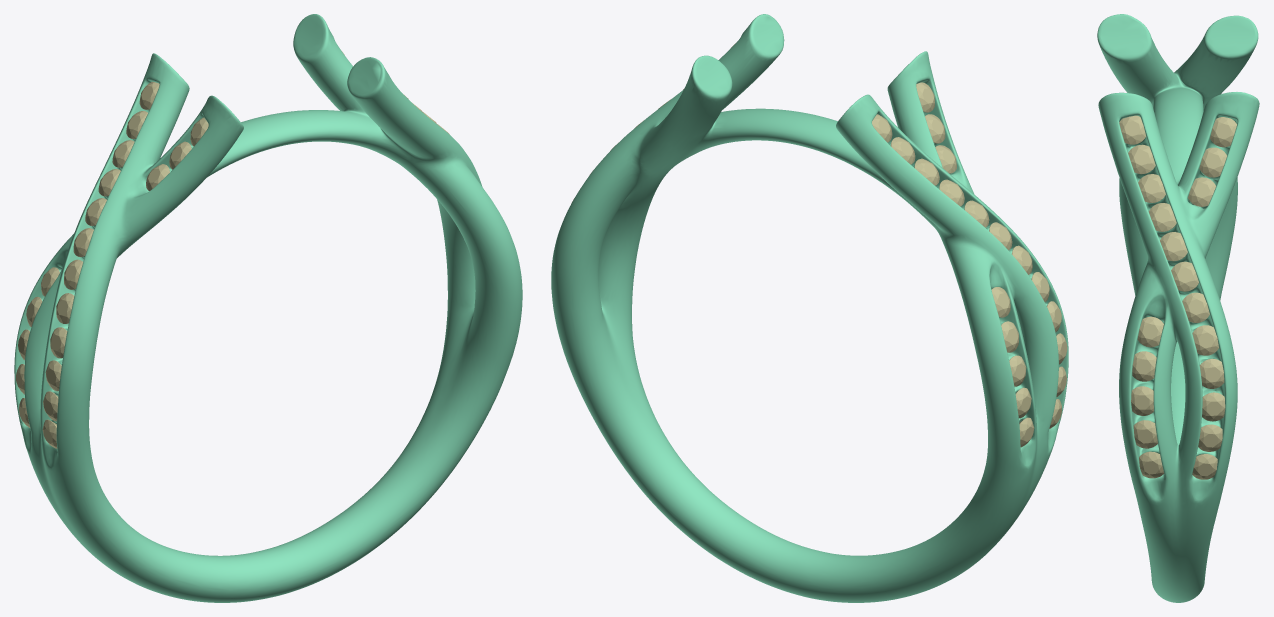
3 renders of one model, left to right at view 1: azimuth 30°, elevation 25°; view 2: azimuth 150°, elevation 25°; view 3: azimuth 270°, elevation 25°, orthographic. The views are drawn at different scales.
Visible parts, largest first — view 1: Metal02; view 2: Metal02; view 3: Metal02, Diamond_Round.009, Diamond_Round.001, Diamond_Round, Diamond_Round.010, Diamond_Round.018, Diamond_Round.008, Diamond_Round.017, Diamond_Round.011, Diamond_Round.019, Diamond_Round.015, Diamond_Round.002 (+9 smaller).
Boxes of the visible parts, left/top/right/bottom form: Metal02: left=14, top=14, right=522, bottom=602; Metal02: left=551, top=14, right=1068, bottom=602; Metal02: left=1097, top=14, right=1259, bottom=602; Diamond_Round.009: left=1192, top=325, right=1218, bottom=355; Diamond_Round.001: left=1132, top=351, right=1156, bottom=381; Diamond_Round: left=1137, top=316, right=1163, bottom=347; Diamond_Round.010: left=1182, top=292, right=1209, bottom=322; Diamond_Round.018: left=1199, top=147, right=1226, bottom=177; Diamond_Round.008: left=1199, top=358, right=1224, bottom=388; Diamond_Round.017: left=1210, top=117, right=1236, bottom=147; Diamond_Round.011: left=1171, top=261, right=1198, bottom=291; Diamond_Round.019: left=1188, top=177, right=1215, bottom=206; Diamond_Round.015: left=1128, top=144, right=1155, bottom=174; Diamond_Round.002: left=1131, top=386, right=1153, bottom=415.
Bounding box in the file's own units: 21.05 × 22.78 × 6.37.
